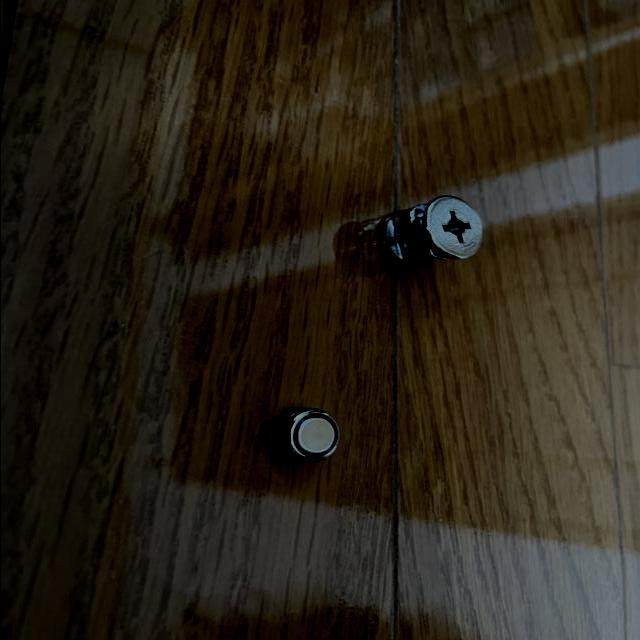COIN: (270, 407, 337, 462)
